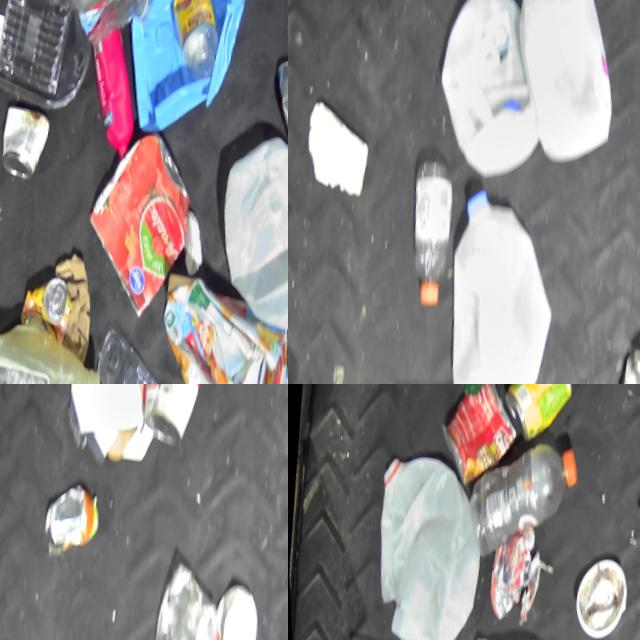can: (69, 122, 198, 322), (428, 384, 523, 490), (133, 384, 217, 450), (494, 384, 576, 446), (35, 480, 101, 557), (0, 101, 51, 181), (11, 272, 71, 337), (262, 44, 288, 149), (606, 337, 640, 384)
milk_jug: (423, 179, 565, 384), (356, 446, 491, 640), (419, 0, 552, 185), (496, 0, 627, 171), (201, 125, 288, 342), (0, 320, 102, 384)
non_white_jug: (138, 275, 288, 384)
plastic_bottle: (458, 432, 580, 567), (393, 152, 462, 311)
